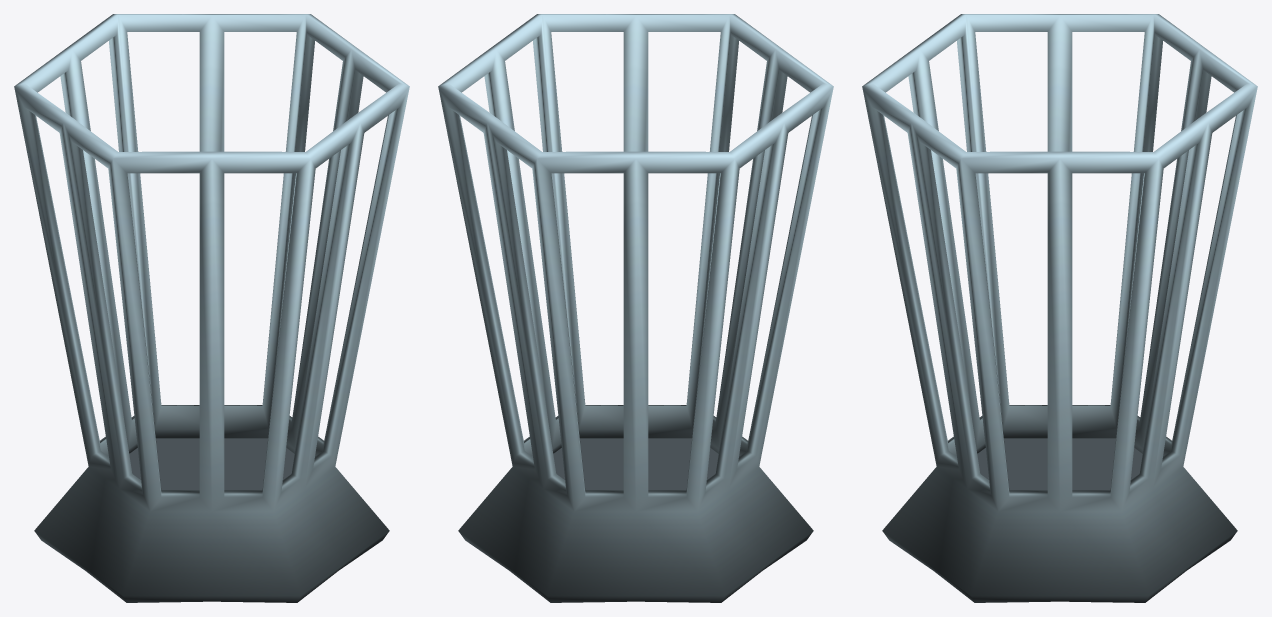
File: TrashCan.fbx
The picture shows the model from 3 angles, left to right: view 1: azimuth 30°, elevation 25°; view 2: azimuth 150°, elevation 25°; view 3: azimuth 270°, elevation 25°; orthographic projection.
Visible parts, largest first — view 1: LowPolyHumanBase.011; view 2: LowPolyHumanBase.011; view 3: LowPolyHumanBase.011.
Boxes of the visible parts, x1,y1,x2,y2 form: LowPolyHumanBase.011: (14,14,409,602); LowPolyHumanBase.011: (438,14,833,602); LowPolyHumanBase.011: (862,14,1257,602).
Size of the model in its own units: 90.26 by 133 by 104.
